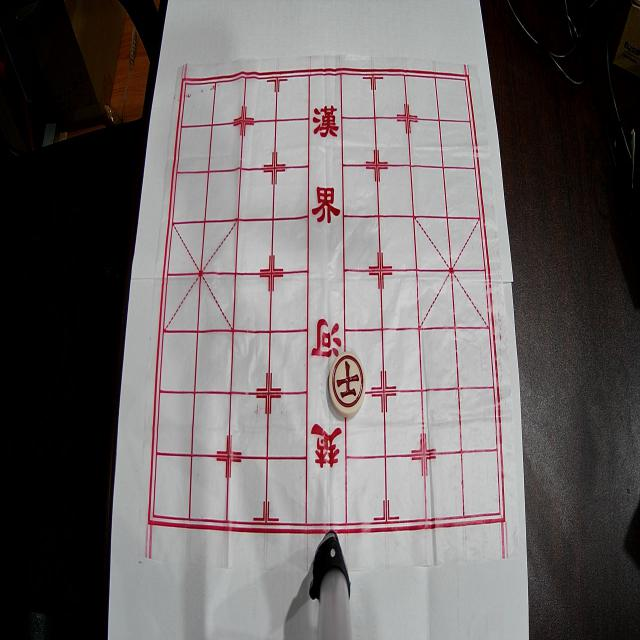red-guard: (329, 351, 366, 418)
